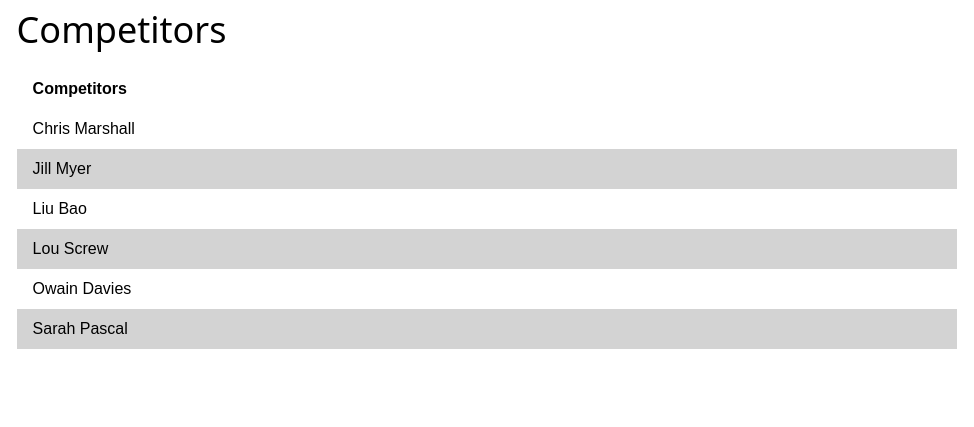
when a competitor is selected › displays competitor details for editing
Click the cell "Chris Marshall" at (84,129), box [17,109,957,149]
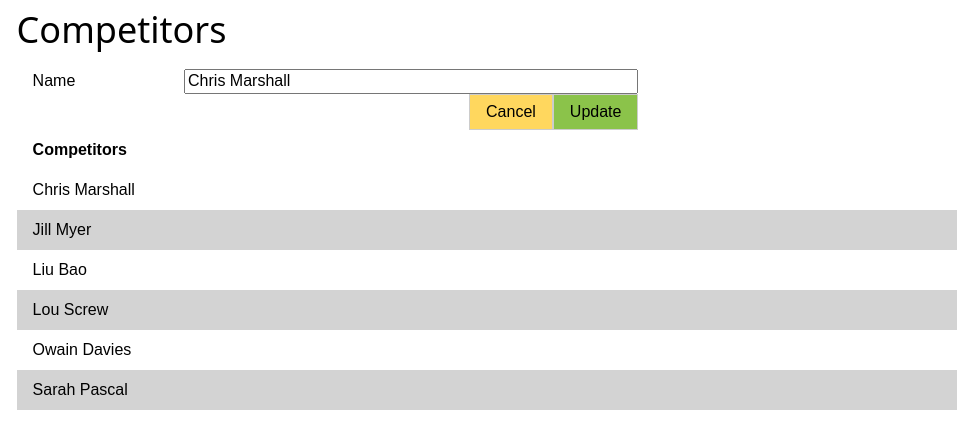
Now the field labelled "Name" holds "Chris Marshall", box [184,69,638,94]
Now the button "Update" is shown, box [553,94,638,130]
Now the button "Cancel" is shown, box [469,94,553,130]
